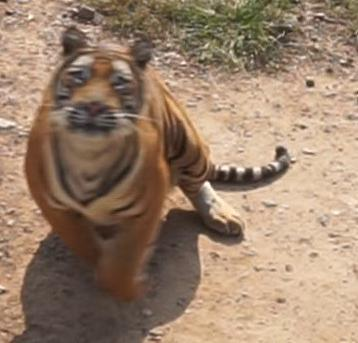tiger: (25, 25, 290, 299)
